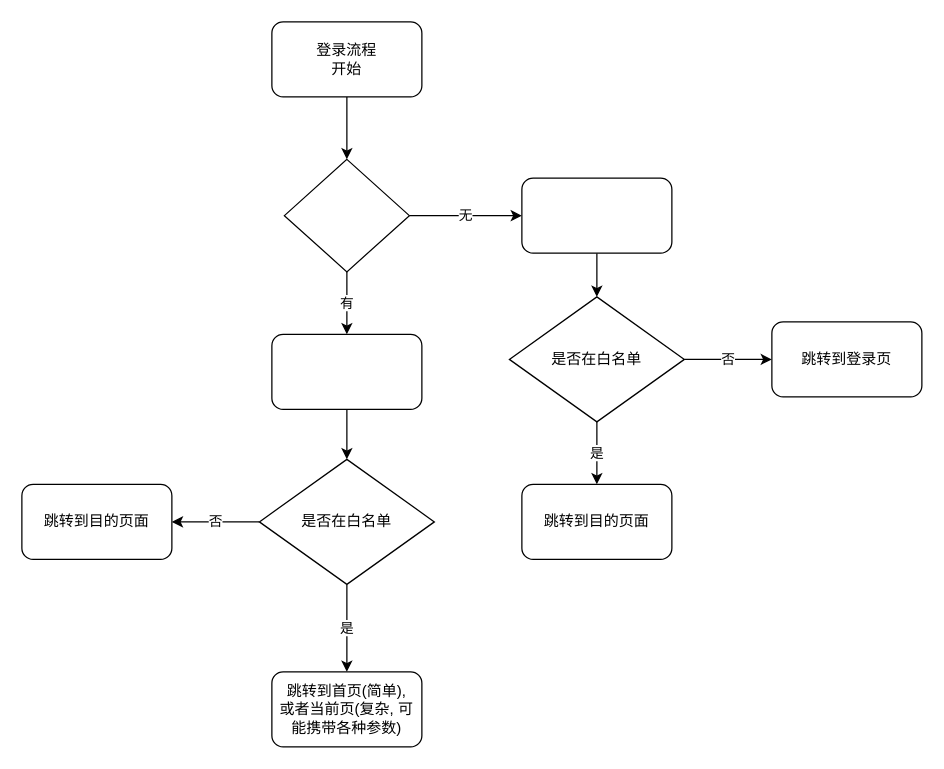
Image size: 944x769. Some labels were removed from this diagram. Each missing label, with the box of its shape:
已登录: (271, 333, 422, 409)
有无token: (283, 158, 409, 272)
未登录: (521, 177, 672, 253)
